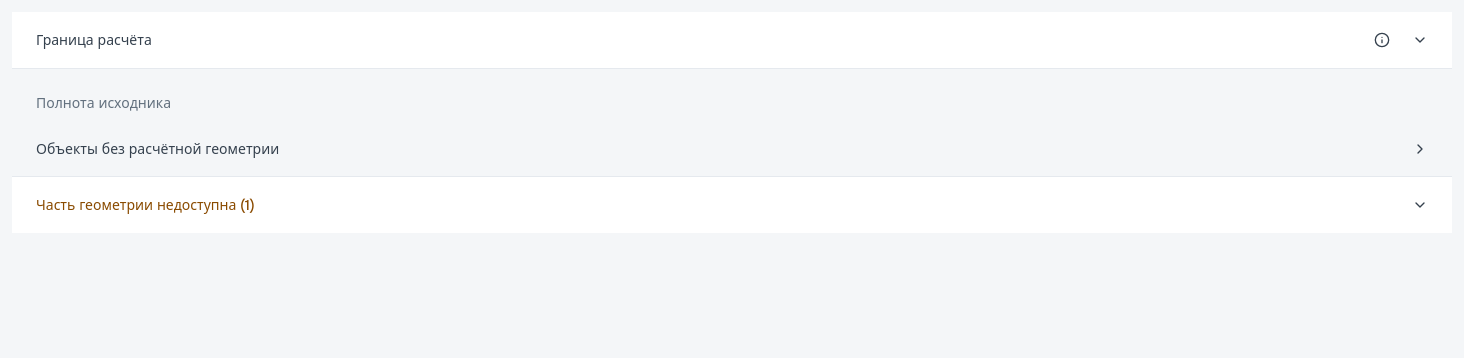
Test: SourceGeometryReview › keeps geometry gaps visible while putting their addresses behind the same task
Expected: the text "Топография|Здания" is not shown
Click the button "Часть геометрии недоступна (1)". click: (140, 205)
box: x1=12 y1=177 x2=1452 y2=233
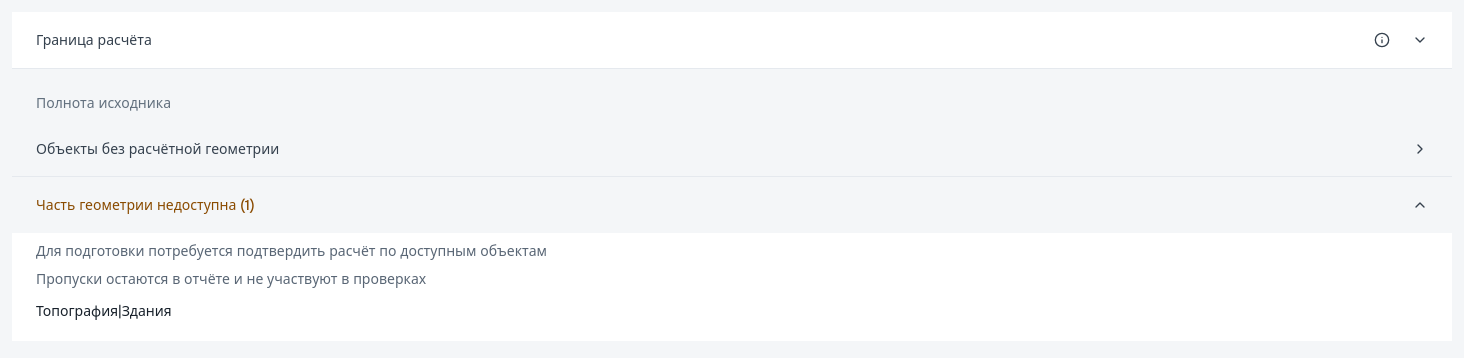
Expected: the list item "Топография|Здания" is shown, x1=36 y1=302 x2=172 y2=320
Expected: the text "Пропуски остаются в отчёте и не участвуют в проверках" is shown, x1=36 y1=270 x2=426 y2=288
